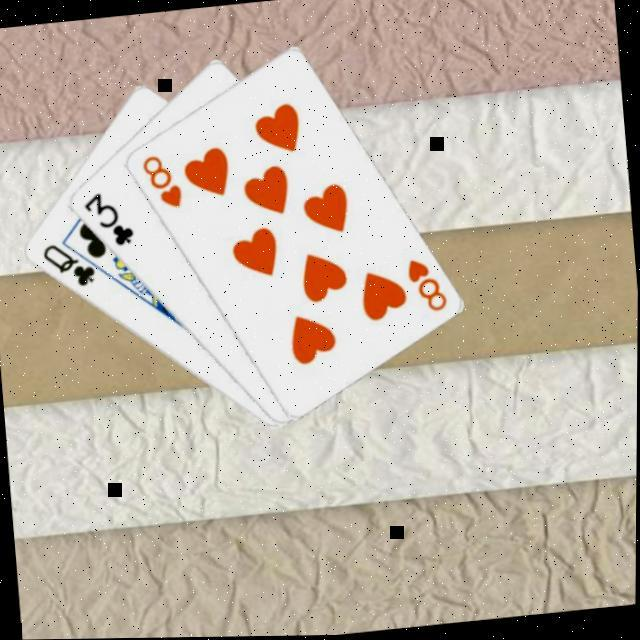3C: (78, 186, 137, 253)
8H: (136, 149, 184, 216), (401, 254, 450, 319)
QC: (36, 237, 98, 295)
